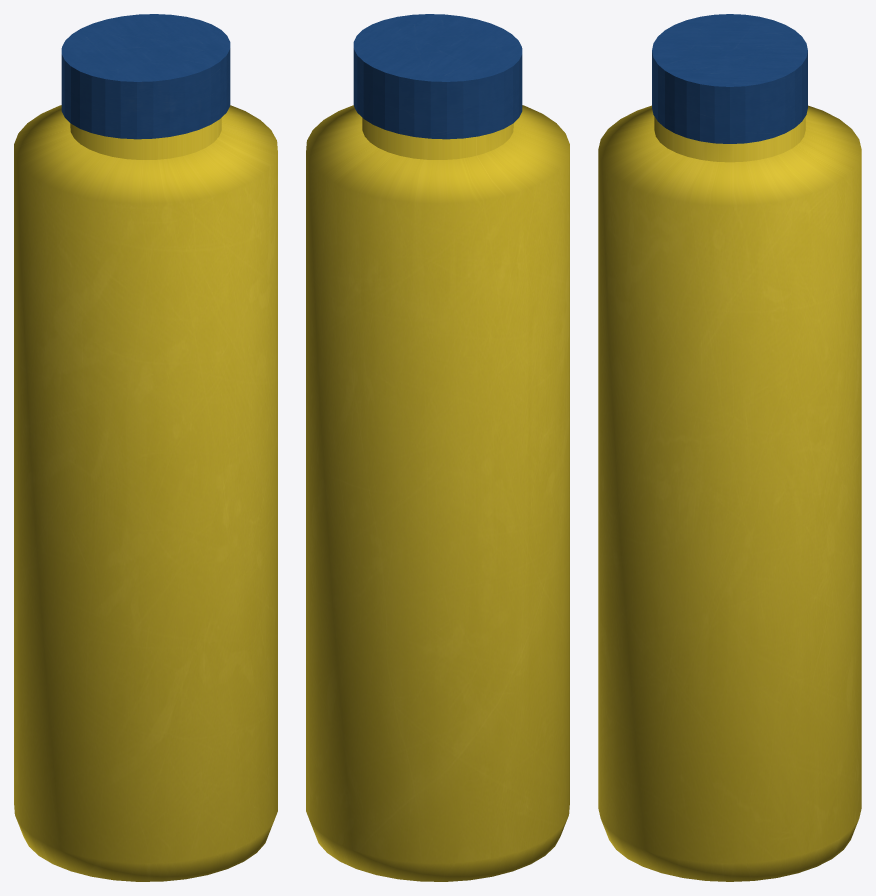
The model's file is bottl.fbx.
The picture shows the model from 3 angles, left to right: view 1: azimuth 30°, elevation 25°; view 2: azimuth 150°, elevation 25°; view 3: azimuth 270°, elevation 25°; orthographic projection.
Visible parts, largest first — view 1: Cylinder_Material.001_0, Cylinder.001_Material.004_0; view 2: Cylinder_Material.001_0, Cylinder.001_Material.004_0; view 3: Cylinder_Material.001_0, Cylinder.001_Material.004_0.
Part boxes in pixels (bbox=[...]): Cylinder_Material.001_0: bbox=[14, 105, 277, 881]; Cylinder.001_Material.004_0: bbox=[61, 14, 230, 139]; Cylinder_Material.001_0: bbox=[306, 105, 569, 881]; Cylinder.001_Material.004_0: bbox=[353, 14, 522, 139]; Cylinder_Material.001_0: bbox=[598, 105, 861, 881]; Cylinder.001_Material.004_0: bbox=[652, 14, 807, 143].
Size of the model in its own units: 287 by 935 by 287.
2 materials, 2 textured.
